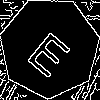E: (25, 23, 79, 80)
